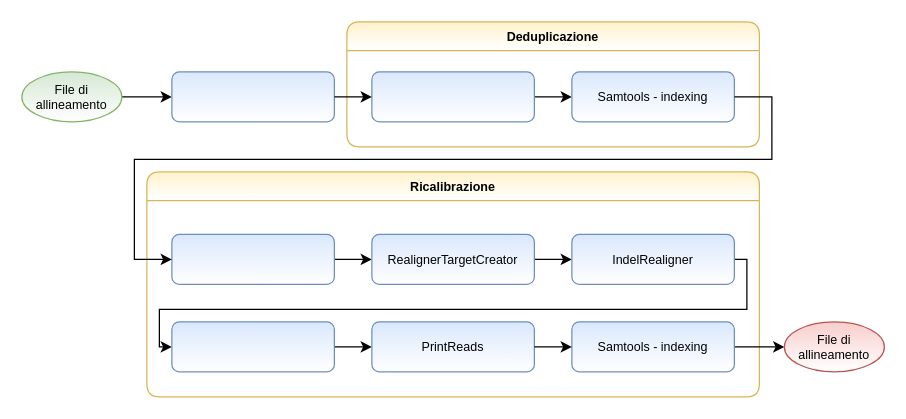
This 906x419 diagram has some shape labels left out. The shapes that lost their labels are listed below. From the top down, each one's centre as x and y in pixels, then its label:
At (x=252, y=96): "AddOrReplaceReadGroups".
At (x=452, y=96): "MarkDuplicates".
At (x=252, y=258): "SplitNCigarReads".
At (x=252, y=346): "BaseRecalibrator".
